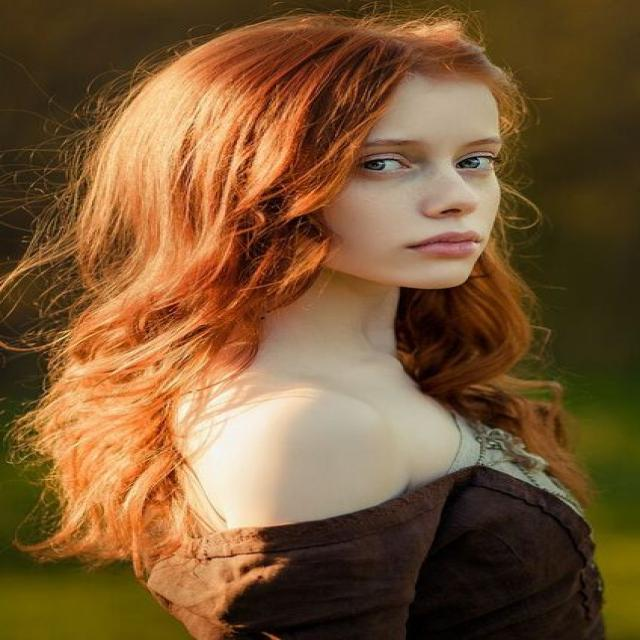Nonhelmet: (100, 9, 519, 291)
